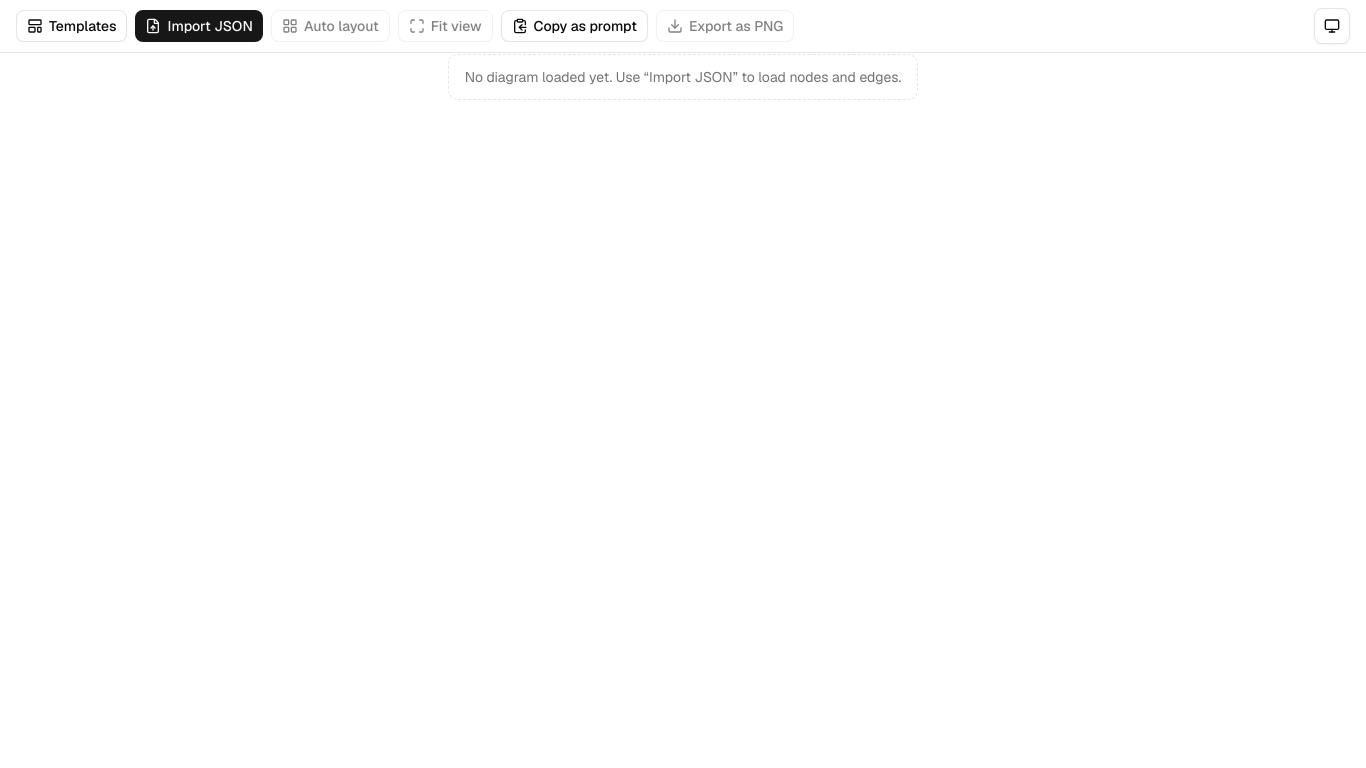
Test: DiagramWorkspace copy as prompt › opens the fallback dialog with the prompt text when writeText rejects
Click the button "Copy as prompt" at (574, 26), box [500,10,648,42]
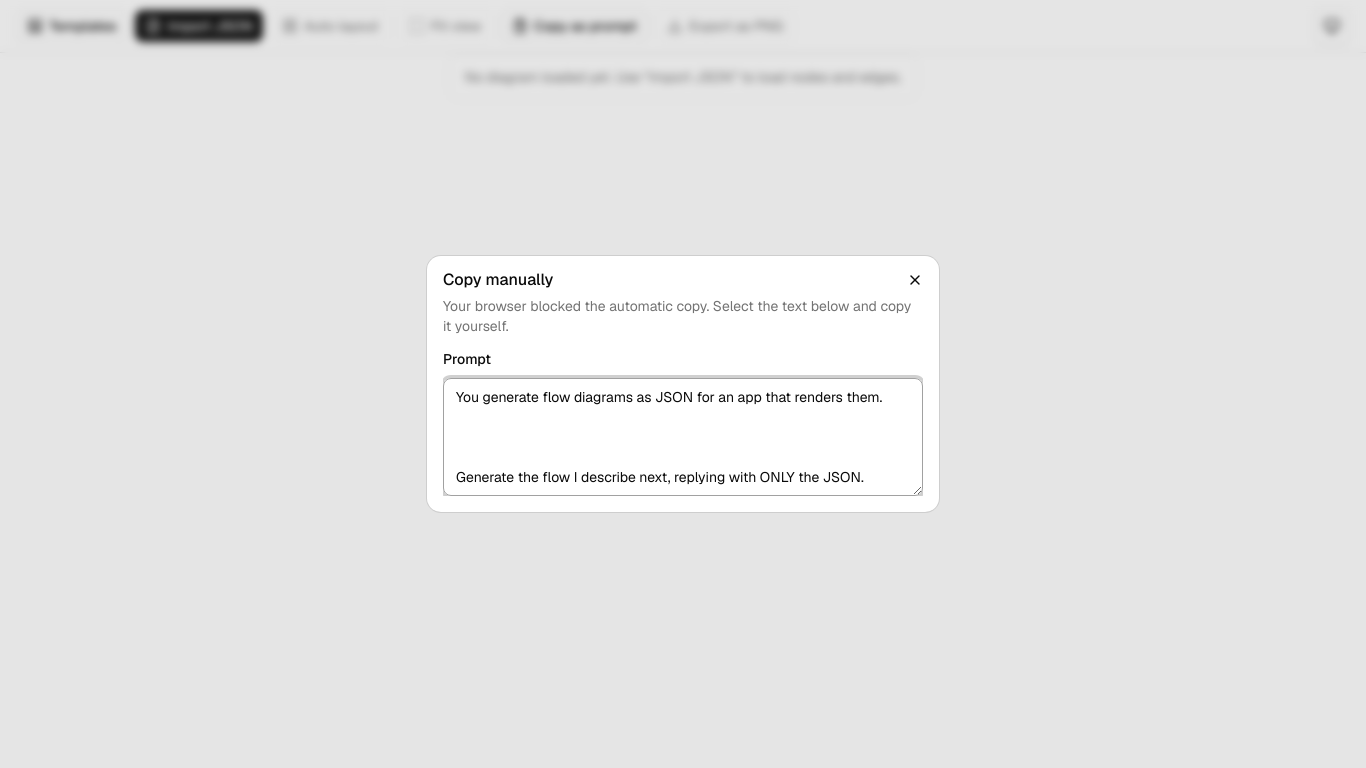
Expected: the dialog is shown, [427,256,939,512]
